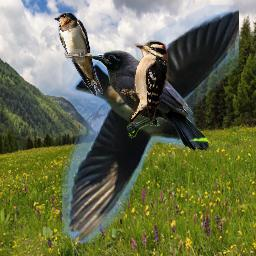Crow: (90, 50, 210, 152)
Swallow: (62, 5, 239, 243), (53, 12, 103, 96)
Woodpecker: (120, 39, 169, 122)
